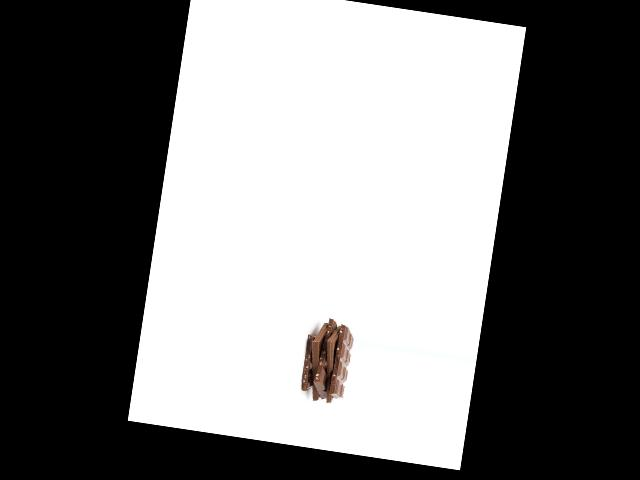chocolate: (294, 320, 336, 400)
